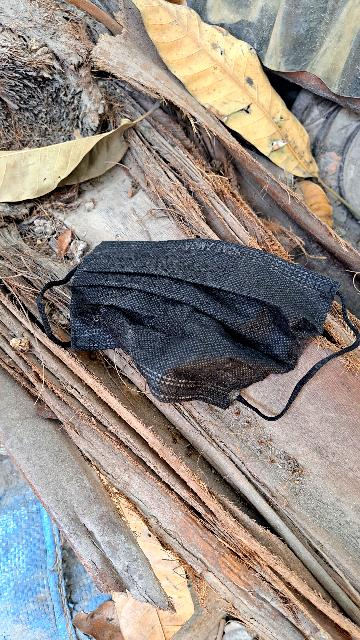mask: (49, 225, 352, 428)
